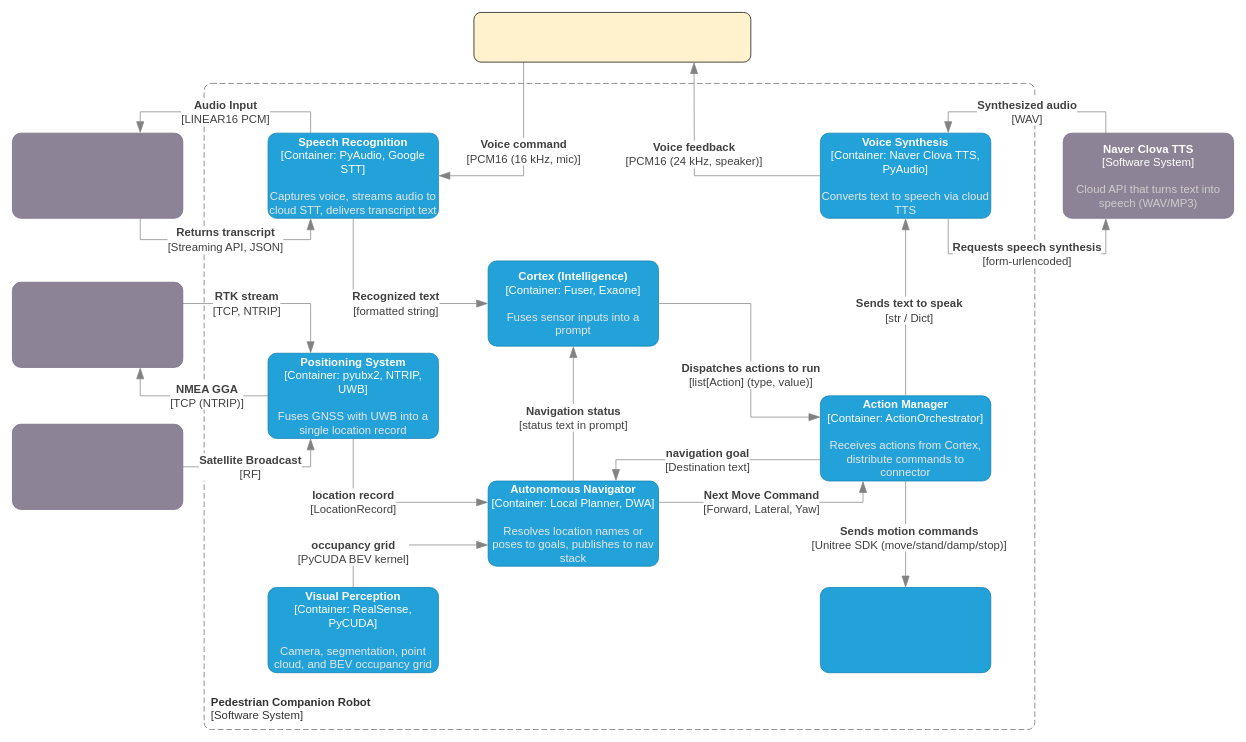
Some shapes in this 1246 by 742 pixel diagram are drawn without their labels. Here are the shapes that lost their labels. From the top down, the centre of each, then its label:
At (x=612, y=37): "Admin, Pedstrian [Users]".
At (x=97, y=175): "Google Cloud STT [Software System] Cloud API that turns spoken audio into text".
At (x=97, y=324): "NTRIP Caster [Software System] Provides RTK correction stream".
At (x=97, y=466): "GNSS Satellites [Software System] Raw GNSS observations".
At (x=905, y=630): "Base Controller [Container: Unitree SDK] HAL robot control".
